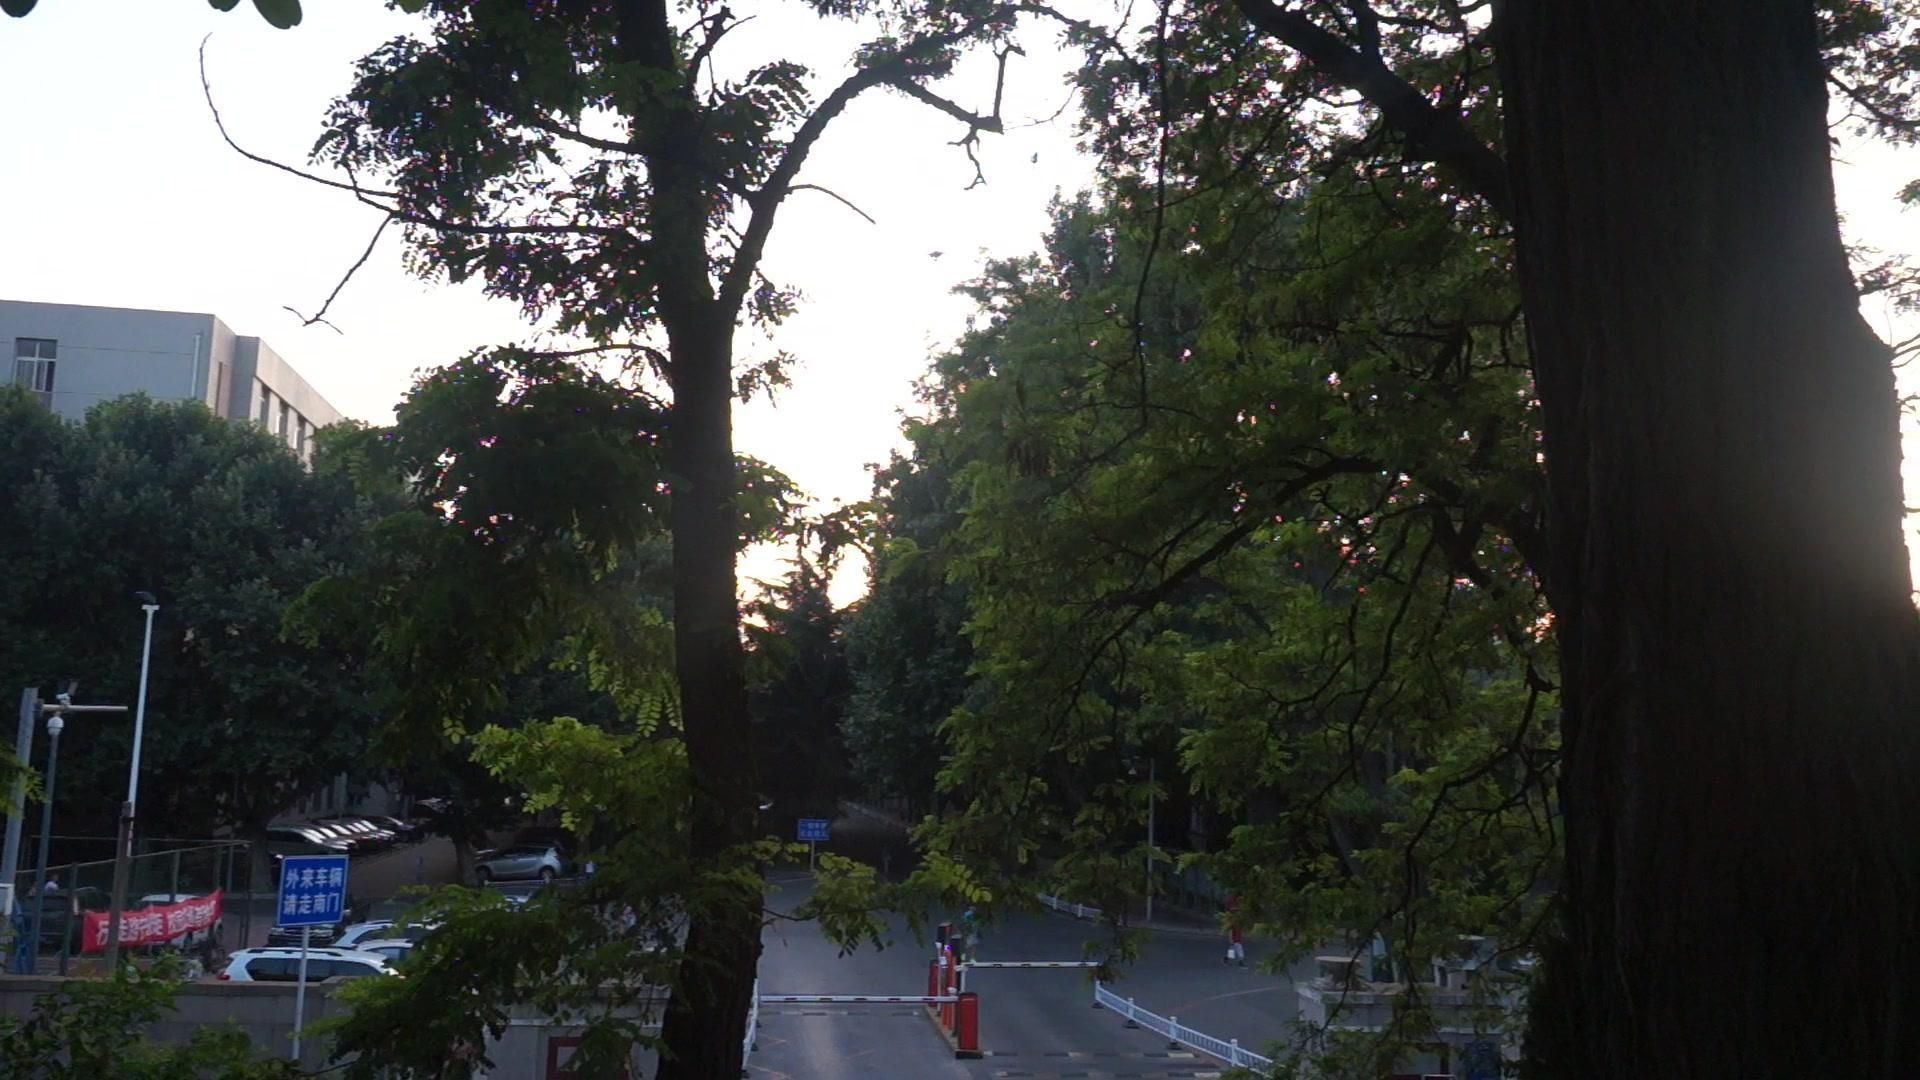UAV: (928, 252, 945, 262)
